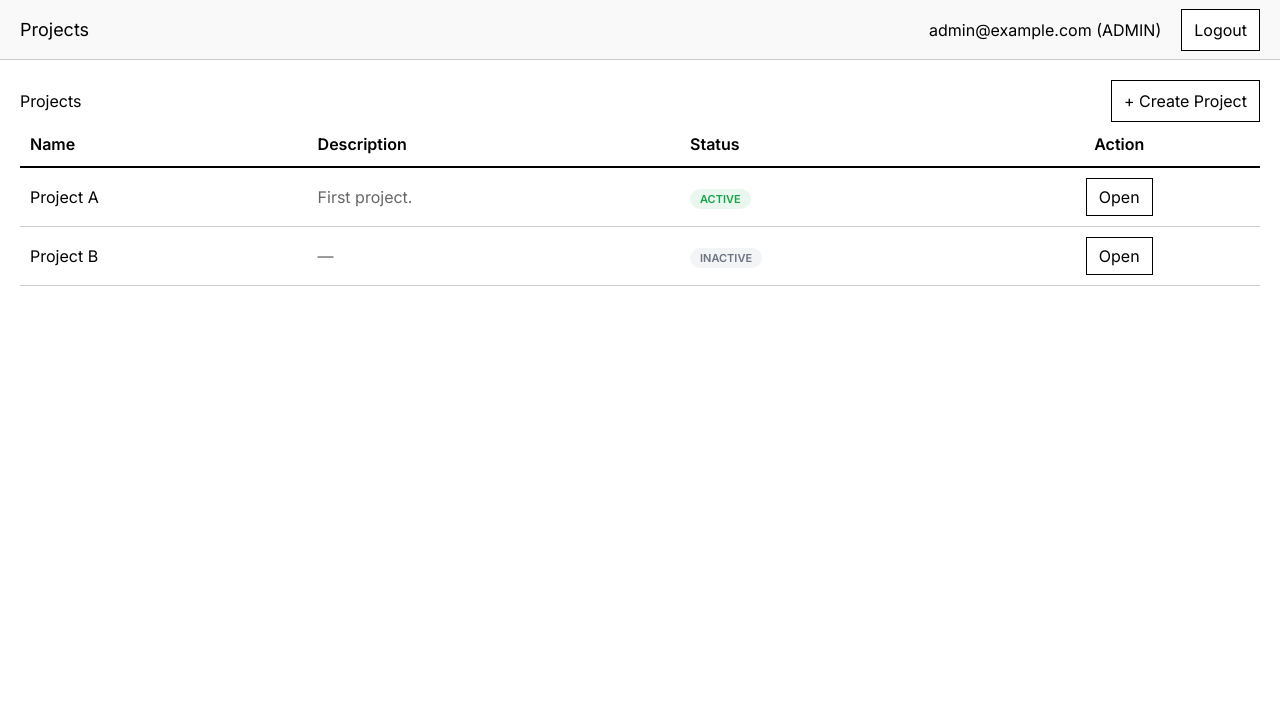
Test case: ProjectListScreen › requires a name before creating a project
Expected: the text "Project A" is shown, [20, 167, 308, 226]
What coordinates should you click on to do the following:
click the button "+ Create Project"
I would click on:
 (1185, 101)
Its box is [1111, 80, 1260, 122].
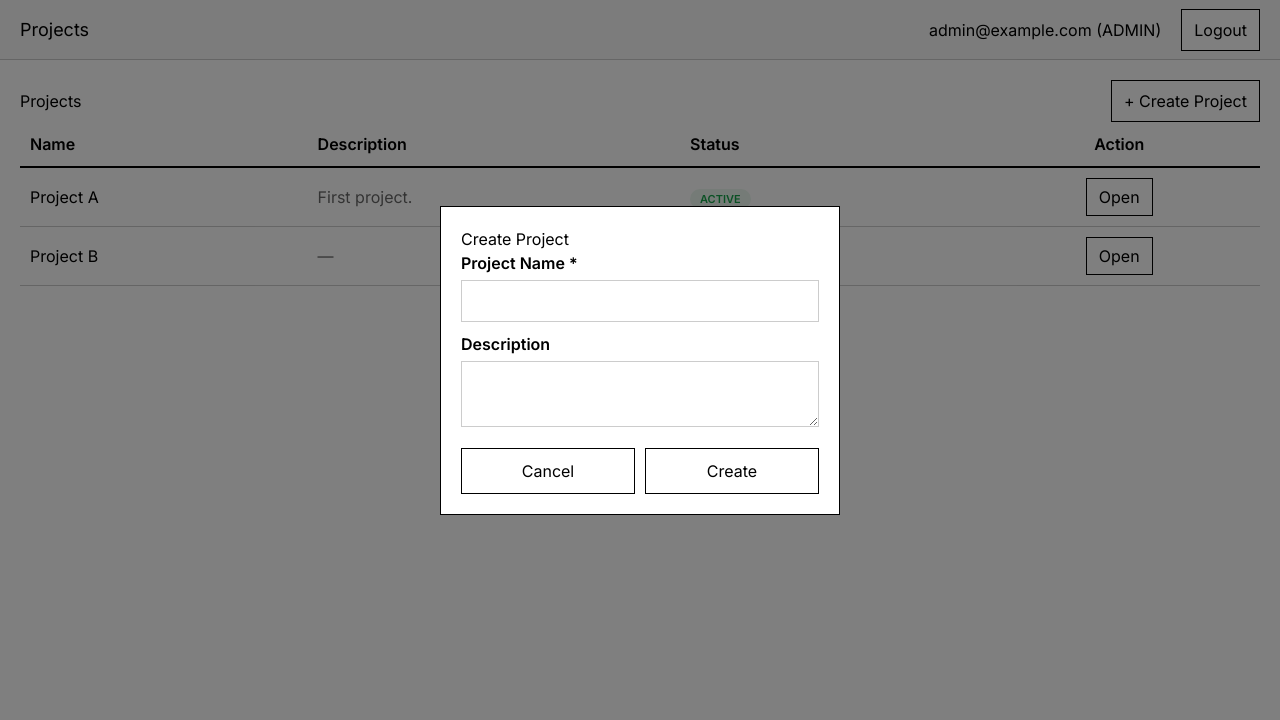
What coordinates should you click on to do the following:
click the button "Create"
I would click on:
 (732, 470)
Its box is [645, 448, 819, 494].
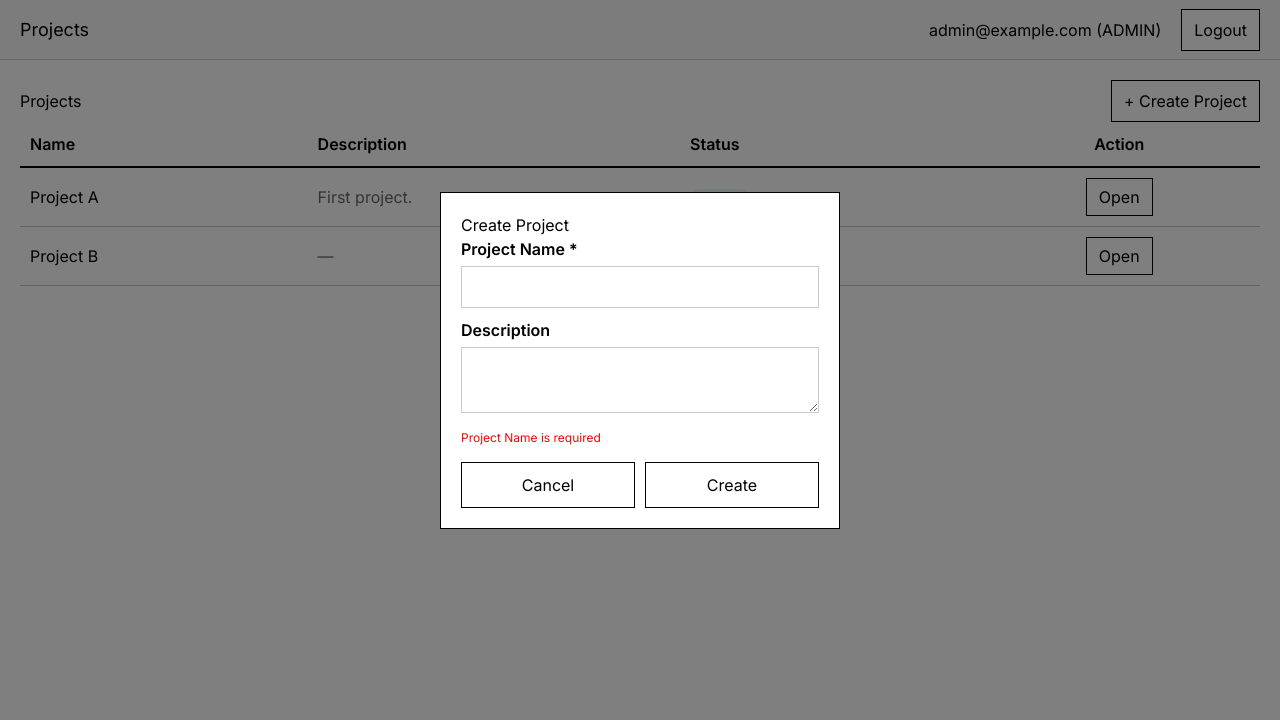
Expected: the text "Project Name is required" is shown, [461, 430, 601, 444]
